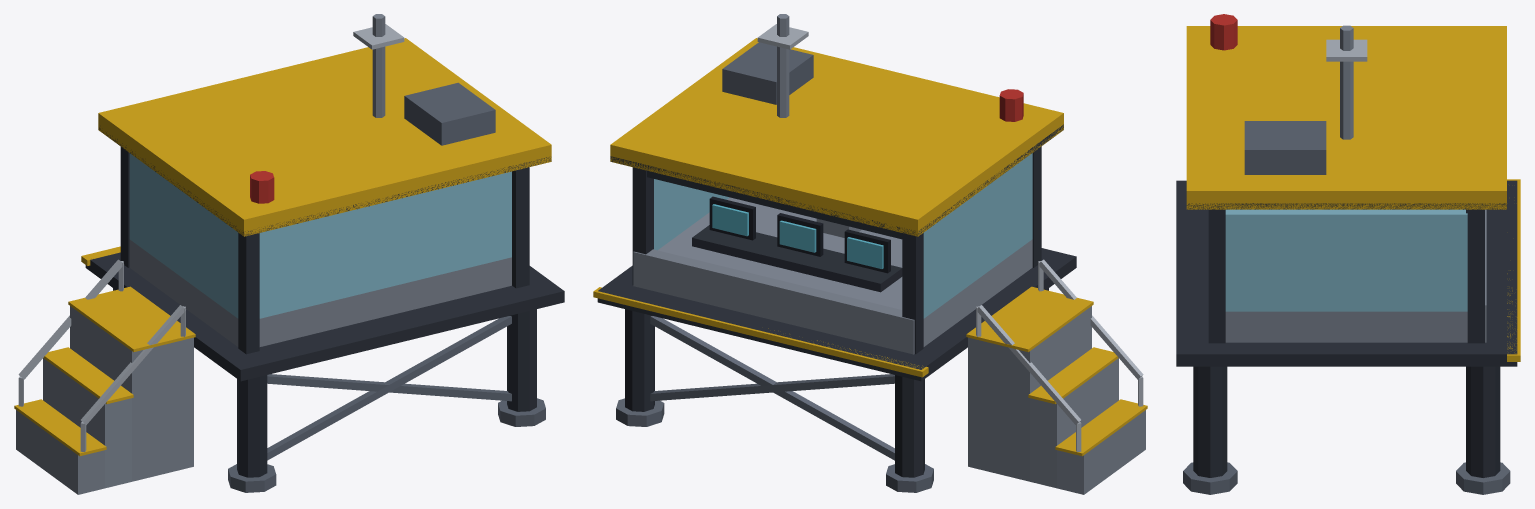
Rendered from Decor_RobotFactory_Booth.fbx.
3 renders of one model, left to right at view 1: azimuth 30°, elevation 25°; view 2: azimuth 150°, elevation 25°; view 3: azimuth 270°, elevation 25°, orthographic. The views are drawn at different scales.
Visible parts, largest first — view 1: Booth_Body; view 2: Booth_Body; view 3: Booth_Body.
Part boxes in pixels (x1,y1,x2,y2): Booth_Body: (14,14,564,494); Booth_Body: (593,14,1147,494); Booth_Body: (1176,14,1520,494).
Bounding box in the file's own units: 16.3 × 13.2 × 10.
